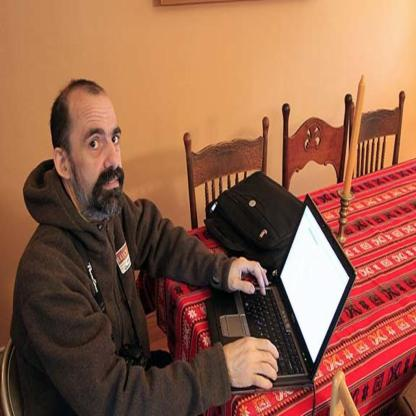board: (211, 194, 355, 397)
